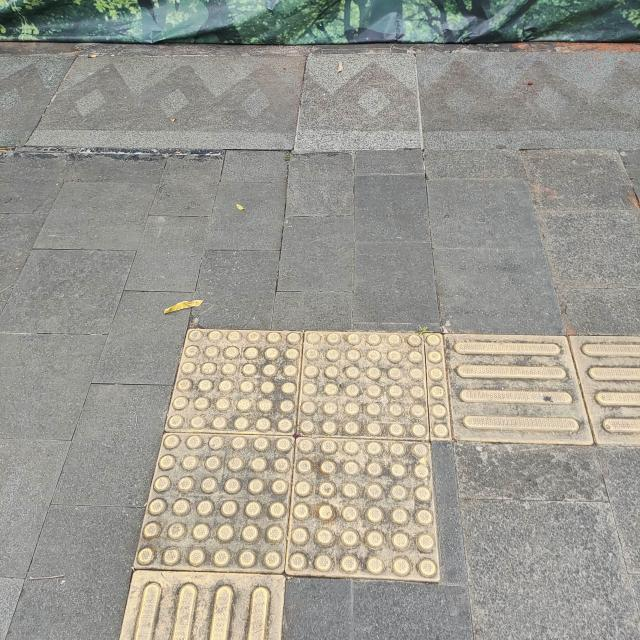kanan: (97, 276, 640, 626)
